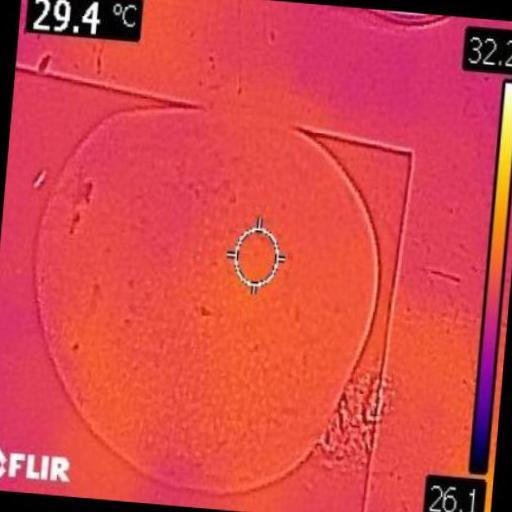alphanso: (36, 107, 378, 493)
